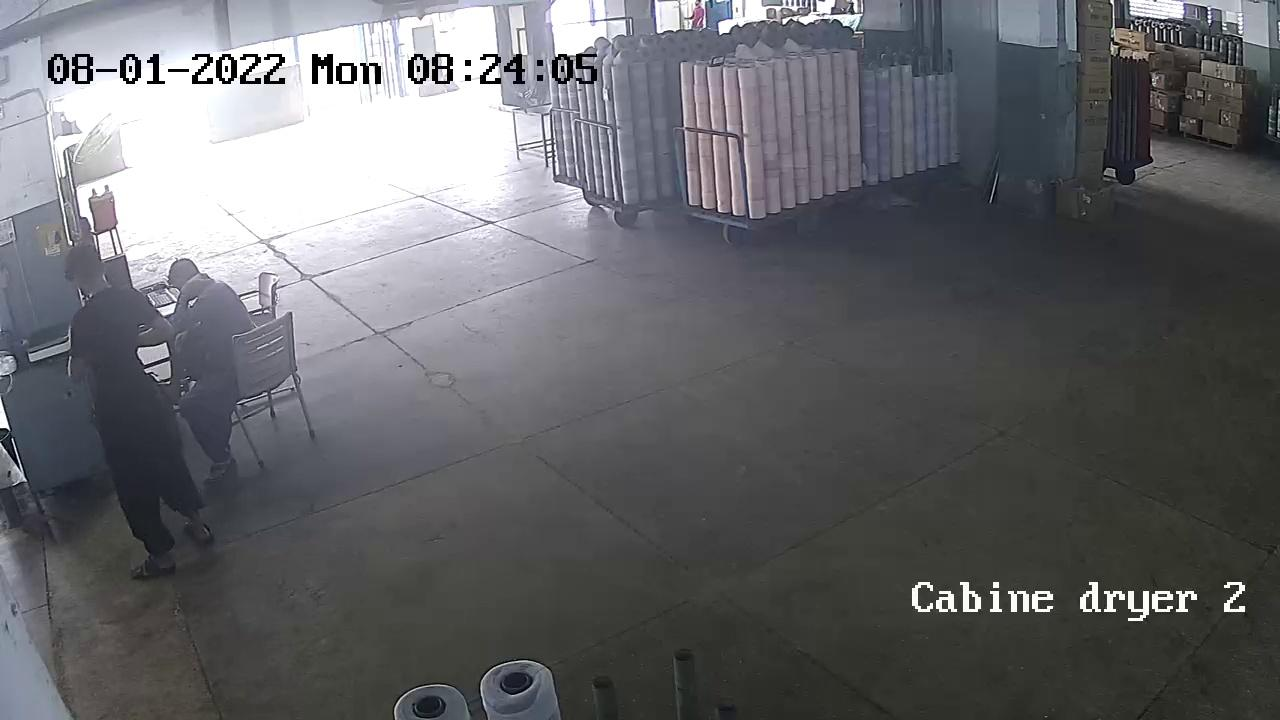person: (69, 243, 215, 573), (177, 258, 270, 422)
